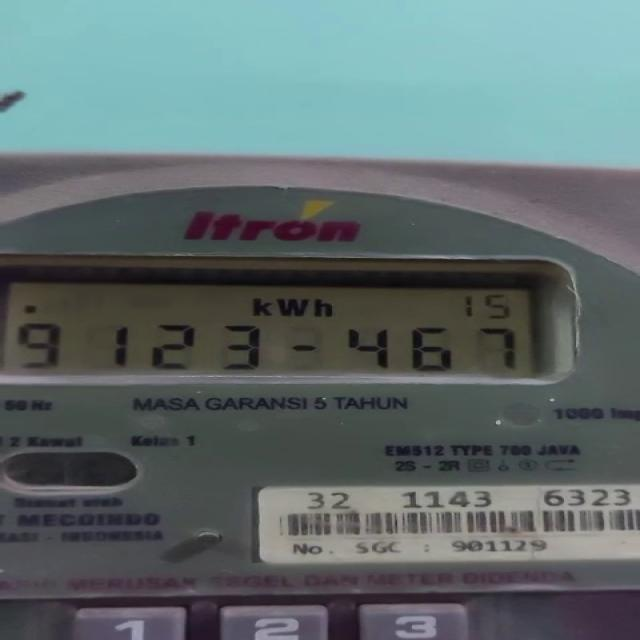LCD: (6, 256, 586, 386)
